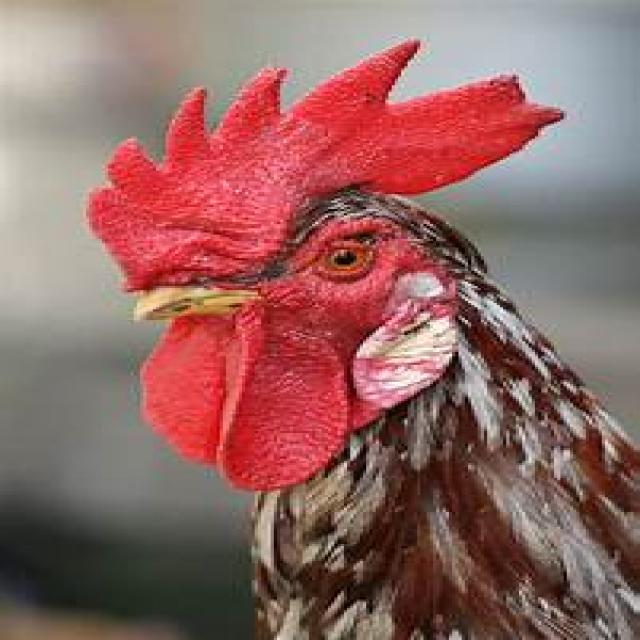hen: (83, 38, 640, 640)
